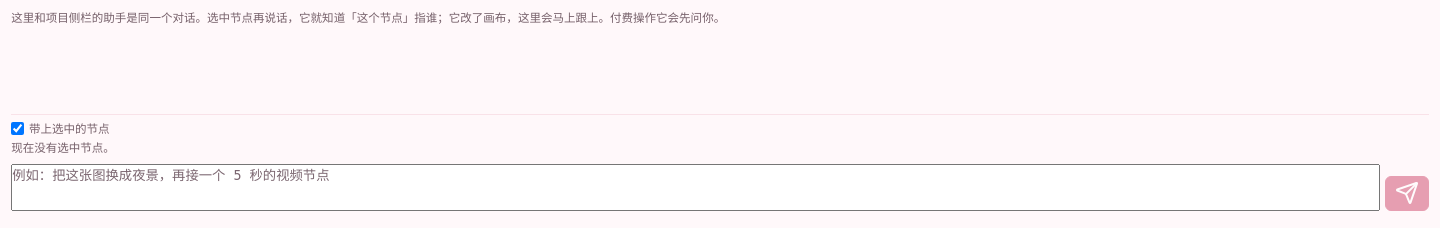
the assistant inside the canvas › still shows the answer when React mounts it twice, as it does in development
This screenshot has width=1440, height=228.
Type "画布上现在有什么" into the text box named "对助手说" at (695, 187), box [11,164,1380,211]
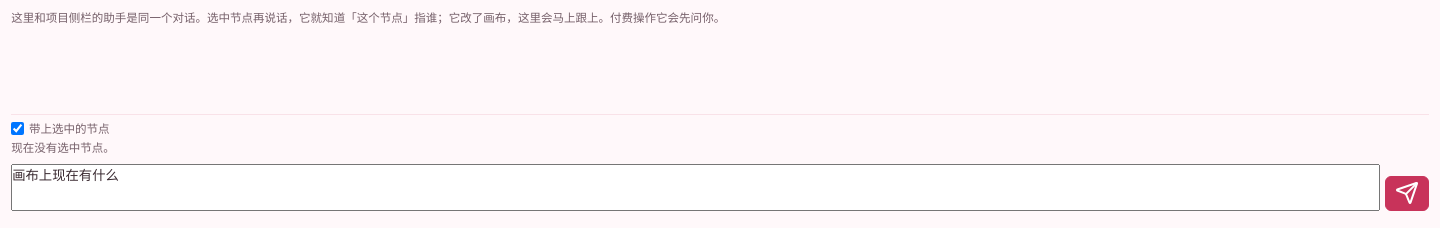
Click the button named "发给助手" at (1407, 193), box [1385,176,1429,211]
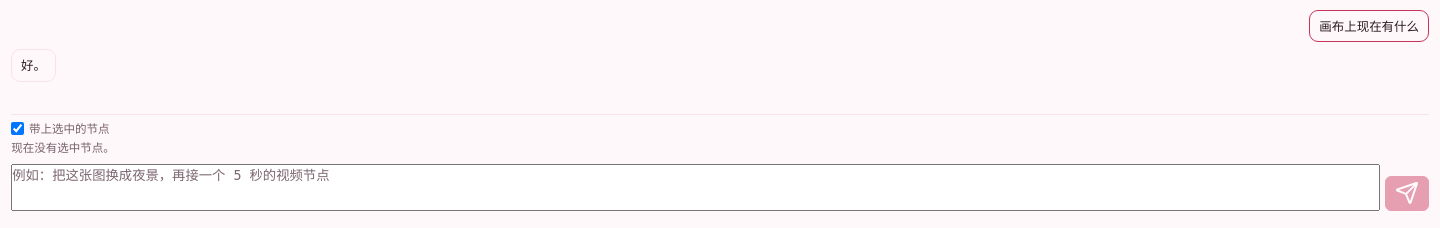
Check: the text "好。" is shown, box [21,56,46,74]
